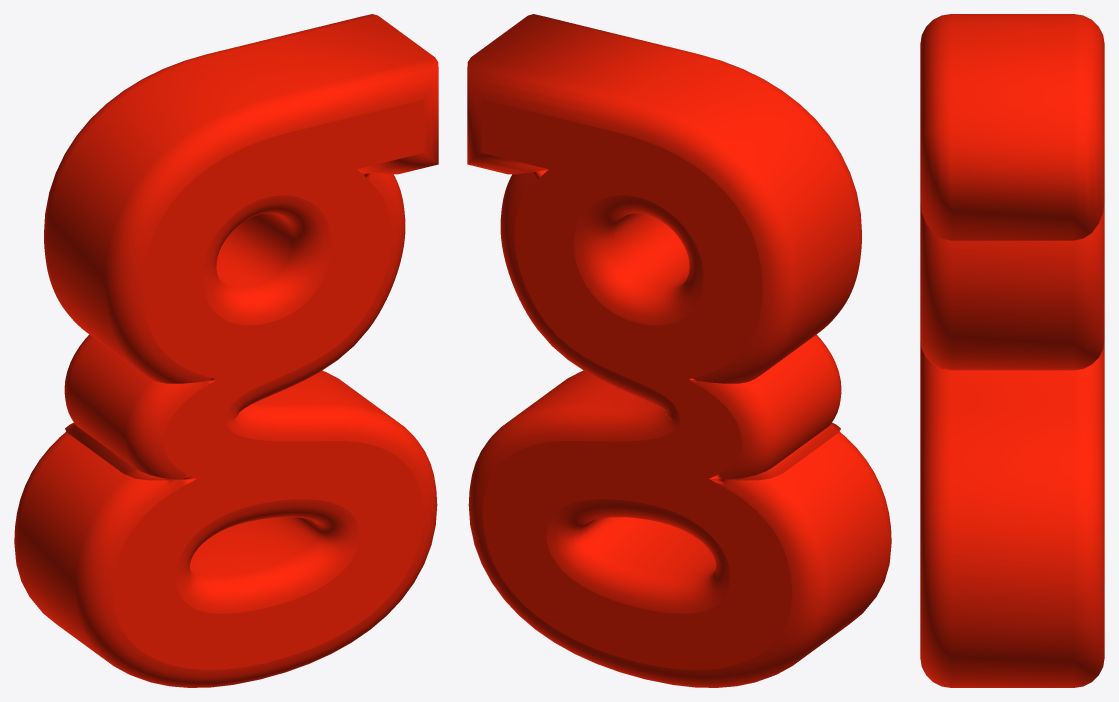
3 renders of one model, left to right at view 1: azimuth 30°, elevation 25°; view 2: azimuth 150°, elevation 25°; view 3: azimuth 270°, elevation 25°, orthographic. The views are drawn at different scales.
Parts seen in each view (by area): view 1: Text; view 2: Text; view 3: Text.
Boxes of the visible parts, <box> form: Text: <box>14,14,438,687</box>; Text: <box>467,14,891,687</box>; Text: <box>920,14,1104,687</box>.
Size of the model in its own units: 1.46 by 2.24 by 0.6.
